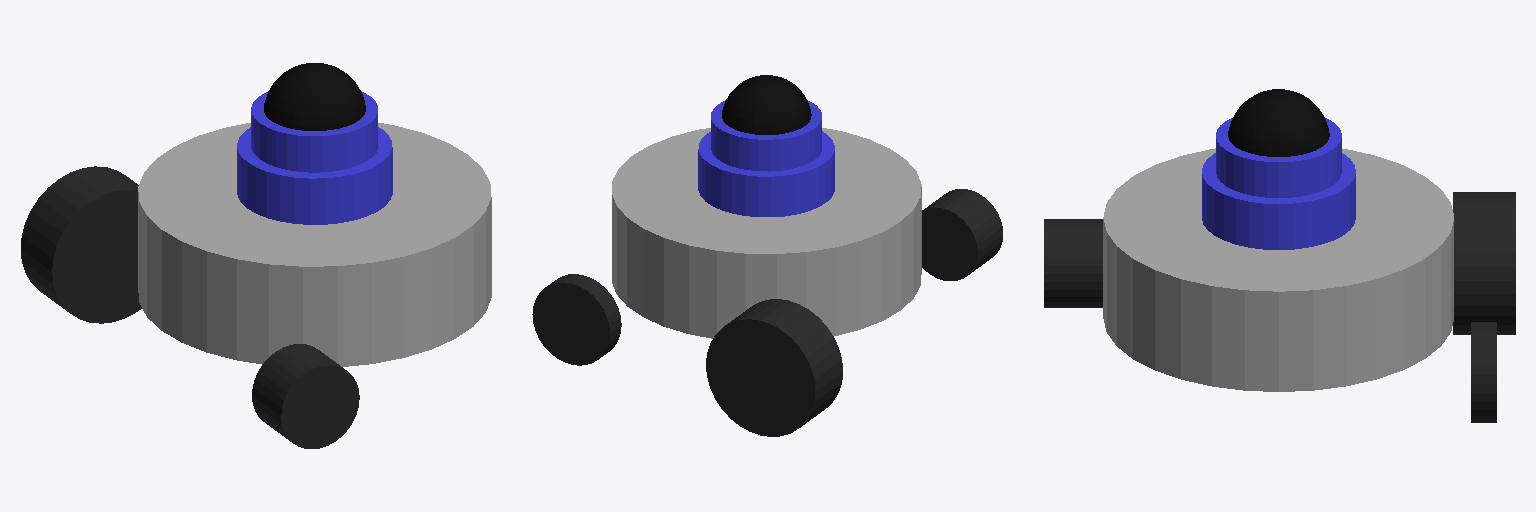
robot.urdf — evolved_robot:
<?xml version="1.0"?>
<robot name="evolved_robot">
  <material name="metal">
    <color rgba="0.7 0.7 0.7 1.0"/>
  </material>
  <material name="plastic">
    <color rgba="0.3 0.3 0.9 1.0"/>
  </material>
  <material name="rubber">
    <color rgba="0.1 0.1 0.1 1.0"/>
  </material>
  <material name="red">
    <color rgba="1.0 0.0 0.0 1.0"/>
  </material>
  <material name="wheel_material">
    <color rgba="0.2 0.2 0.2 1.0"/>
  </material>
  <link name="base_link">
    <visual>
      <geometry><cylinder radius="0.20620974485377241" length="0.1301065557292387"/></geometry>
      <material name="metal"/>
    </visual>
    <collision>
      <geometry><cylinder radius="0.20620974485377241" length="0.1301065557292387"/></geometry>
    </collision>
    <inertial>
      <mass value="5.0"/>
      <inertia ixx="0.12041257705141602" ixy="0" ixz="0" 
               iyy="0.12041257705141602" iyz="0" 
               izz="0.2126122943632896"/>
    </inertial>
  </link>
  <link name="link1">
    <visual>
      <geometry>
        <cylinder radius="0.059466034570848564" length="0.030775727067827097"/>
      </geometry>
      <material name="wheel_material"/>
    </visual>
    <collision>
      <geometry>
        <cylinder radius="0.059466034570848564" length="0.030775727067827097"/>
      </geometry>
    </collision>
    <inertial>
      <mass value="1.0"/>
      <inertia ixx="0.000962981098274788" ixy="0" ixz="0" 
               iyy="0.000962981098274788" iyz="0" 
               izz="0.0017681046337906783"/>
    </inertial>
  </link>
  <joint name="joint1" type="fixed">
    <parent link="base_link"/>
    <child link="link1"/>
    <origin xyz="0.15134624011971906 0.24107324958782578 -0.06505327786461935" rpy="1.5708 0 0"/>
    <axis xyz="0 1 0"/>
    <dynamics damping="0.1029057953056492" friction="0.1"/>
  </joint>
  <link name="link2">
    <visual>
      <geometry>
        <cylinder radius="0.08407692713004995" length="0.07364071116378197"/>
      </geometry>
      <material name="wheel_material"/>
    </visual>
    <collision>
      <geometry>
        <cylinder radius="0.08407692713004995" length="0.07364071116378197"/>
      </geometry>
    </collision>
    <inertial>
      <mass value="1.0"/>
      <inertia ixx="0.002219145280633563" ixy="0" ixz="0" 
               iyy="0.002219145280633563" iyz="0" 
               izz="0.003534464837815865"/>
    </inertial>
  </link>
  <joint name="joint2" type="continuous">
    <parent link="base_link"/>
    <child link="link2"/>
    <origin xyz="-0.15134624011971906 0.24107324958782578 -0.06505327786461935" rpy="1.5708 0 0"/>
    <axis xyz="0 1 0"/>
    <dynamics damping="0.16940986315664458" friction="0.1"/>
  </joint>
  <link name="link3">
    <visual>
      <geometry>
        <cylinder radius="0.05278188144654643" length="0.06835710106827347"/>
      </geometry>
      <material name="wheel_material"/>
    </visual>
    <collision>
      <geometry>
        <cylinder radius="0.05278188144654643" length="0.06835710106827347"/>
      </geometry>
    </collision>
    <inertial>
      <mass value="1.0"/>
      <inertia ixx="0.0010858728577975" ixy="0" ixz="0" 
               iyy="0.0010858728577975" iyz="0" 
               izz="0.001392963504518641"/>
    </inertial>
  </link>
  <joint name="joint3" type="floating">
    <parent link="base_link"/>
    <child link="link3"/>
    <origin xyz="-0.15134624011971906 -0.24107324958782578 -0.06505327786461935" rpy="1.5708 0 0"/>
    <axis xyz="0 1 0"/>
    <dynamics damping="0.812262278098456" friction="0.1"/>
  </joint>
  <link name="link4">
    <visual>
      <geometry><cylinder radius="0.09075330899418887" length="0.11922553858749281"/></geometry>
      <material name="plastic"/>
    </visual>
    <collision>
      <geometry><cylinder radius="0.09075330899418887" length="0.11922553858749281"/></geometry>
    </collision>
    <inertial>
      <mass value="0.5"/>
      <inertia ixx="0.0032436015276384924" ixy="0" ixz="0" 
               iyy="0.0032436015276384924" iyz="0" 
               izz="0.004118081546697362"/>
    </inertial>
  </link>
  <joint name="joint4" type="prismatic">
    <parent link="base_link"/>
    <child link="link4"/>
    <origin xyz="0 0 0.06505327786461935" rpy="0 0 0"/>
    <axis xyz="-0.0070540339977822625 0.9999729260305753 0.0020947100533780572"/>
    <dynamics damping="0.29067086599526093" friction="0.1"/>
    <limit lower="-1.714564015738163" upper="2.9217880489281463" effort="100" velocity="100"/>
  </joint>
  <link name="link5">
    <visual>
      <geometry><cylinder radius="0.0742881723678044" length="0.11226855661961216"/></geometry>
      <material name="plastic"/>
    </visual>
    <collision>
      <geometry><cylinder radius="0.0742881723678044" length="0.11226855661961216"/></geometry>
    </collision>
    <inertial>
      <mass value="0.5"/>
      <inertia ixx="0.0024300355388914095" ixy="0" ixz="0" 
               iyy="0.0024300355388914095" iyz="0" 
               izz="0.0027593662768743083"/>
    </inertial>
  </link>
  <joint name="joint5" type="floating">
    <parent link="base_link"/>
    <child link="link5"/>
    <origin xyz="0 0 0.11505327786461936" rpy="0 0 0"/>
    <axis xyz="-0.4786716533999747 0.8048167272710316 0.3509180584354134"/>
    <dynamics damping="0.6162391592865825" friction="0.1"/>
  </joint>
  <link name="link6">
    <visual>
      <geometry><sphere radius="0.060388191690617266"/></geometry>
      <material name="rubber"/>
    </visual>
    <collision>
      <geometry><sphere radius="0.060388191690617266"/></geometry>
    </collision>
    <inertial>
      <mass value="0.5"/>
      <inertia ixx="0.0014586934782650945" ixy="0" ixz="0" 
               iyy="0.0014586934782650945" iyz="0" 
               izz="0.0014586934782650945"/>
    </inertial>
  </link>
  <joint name="joint6" type="fixed">
    <parent link="base_link"/>
    <child link="link6"/>
    <origin xyz="0 0 0.16505327786461937" rpy="0 0 0"/>
    <axis xyz="-0.25561495641874504 0.7807583470521493 0.5701555906622672"/>
    <dynamics damping="0.2872431319024277" friction="0.1"/>
  </joint>
</robot>

--- What the picture shows (computed from the rendered views, not written in the file) ---
3 views of the same robot in one strip: view 1: azimuth 30°, elevation 25°; view 2: azimuth 150°, elevation 25°; view 3: azimuth 270°, elevation 25° (orthographic).
Model evolved_robot with 7 links and 6 joints (1 continuous, 1 prismatic, 2 fixed, 2 floating), rooted at base_link, posed every joint at zero.
Visible links, largest first — view 1: base_link, link2, link4, link3, link5, link6; view 2: base_link, link2, link4, link1, link3, link5, link6; view 3: base_link, link4, link2, link5, link6, link3, link1.
Boxes of the visible links, bbox=[...] form: base_link: bbox=[138, 123, 491, 366]; link2: bbox=[21, 166, 141, 323]; link4: bbox=[237, 127, 392, 224]; link3: bbox=[252, 344, 359, 448]; link5: bbox=[251, 91, 377, 172]; link6: bbox=[264, 63, 365, 130]; base_link: bbox=[612, 128, 921, 338]; link2: bbox=[706, 299, 842, 436]; link4: bbox=[698, 131, 834, 216]; link1: bbox=[532, 274, 621, 365]; link3: bbox=[922, 189, 1002, 280]; link5: bbox=[711, 100, 821, 171]; link6: bbox=[722, 75, 811, 134]; base_link: bbox=[1103, 148, 1453, 391]; link4: bbox=[1202, 153, 1355, 249]; link2: bbox=[1453, 192, 1515, 334]; link5: bbox=[1216, 118, 1341, 197]; link6: bbox=[1228, 89, 1329, 156]; link3: bbox=[1044, 219, 1102, 307]; link1: bbox=[1471, 322, 1496, 422].
Size in the robot's own frame: 0.4462 by 0.5531 by 0.3746 metres.
Geometry: primitives only (box / cylinder / sphere), no mesh files.